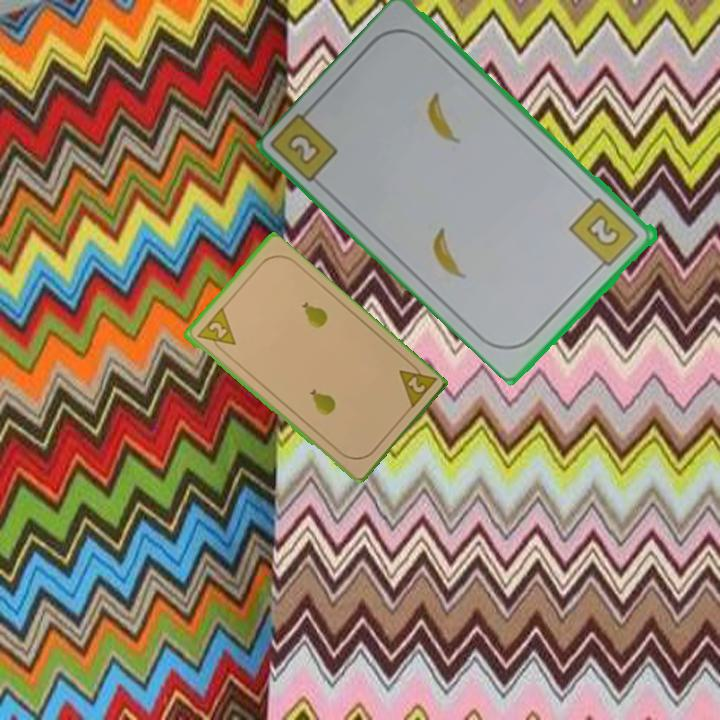2b: (566, 194, 642, 274), (287, 132, 320, 165)
2p: (394, 356, 438, 413), (192, 305, 238, 356)
